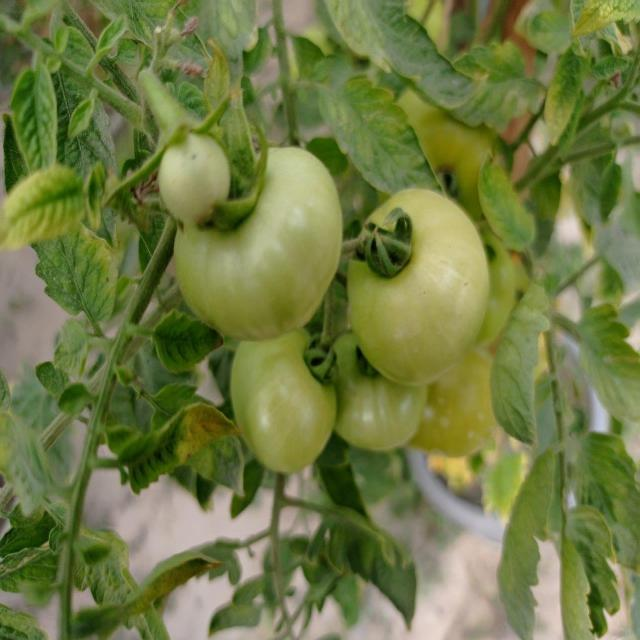Unripe: (347, 187, 491, 386), (232, 326, 338, 476)
